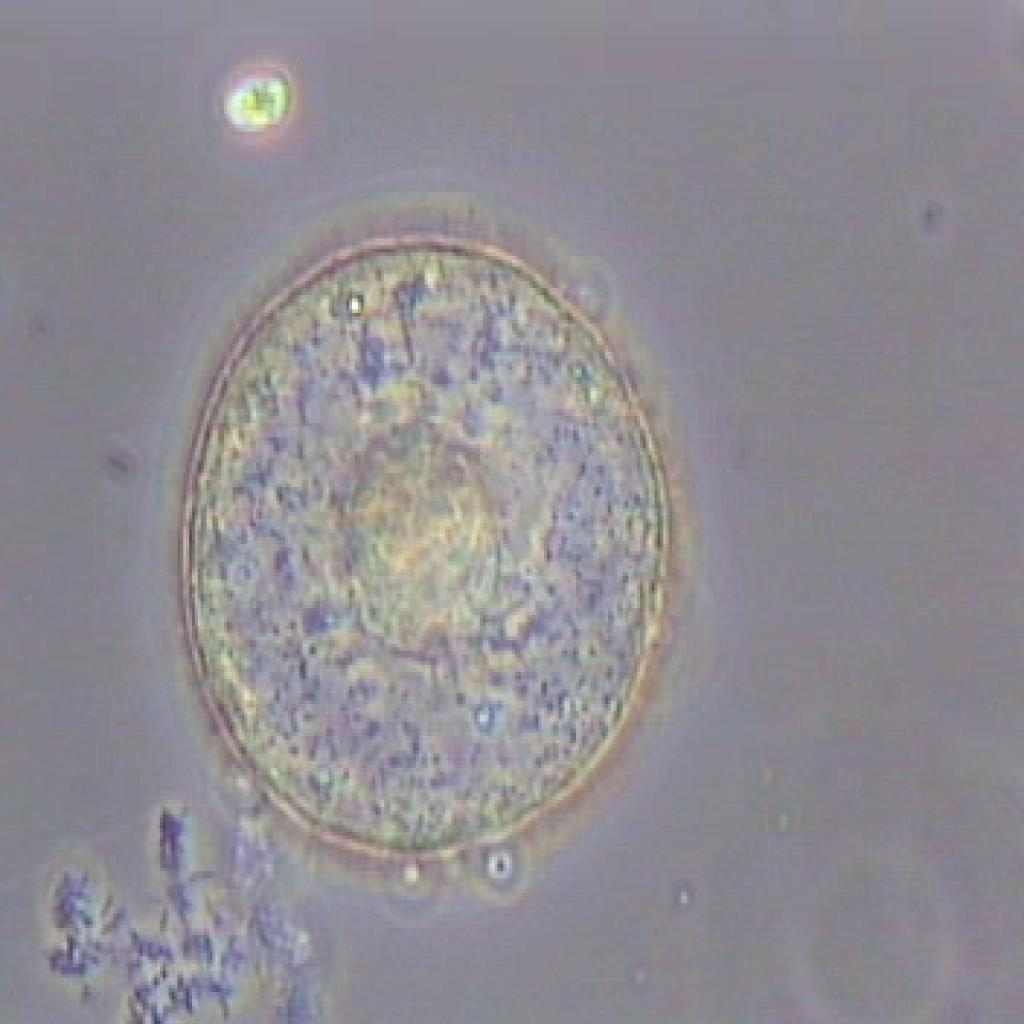Arcella: (138, 210, 714, 903)
